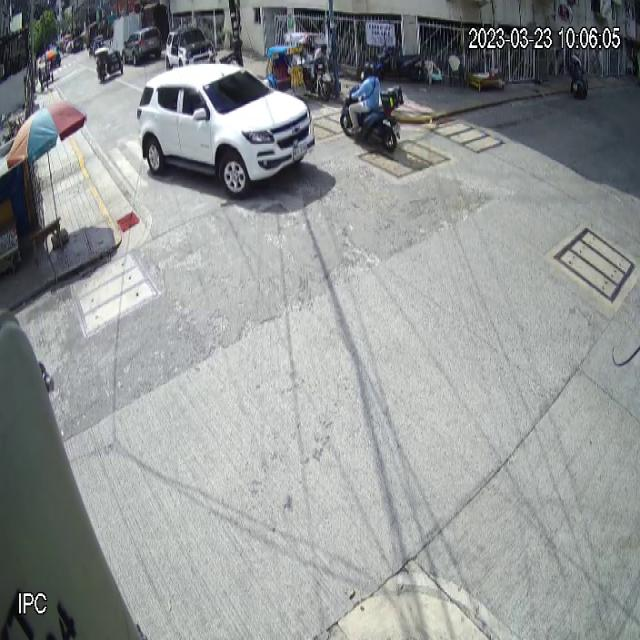Car: (135, 62, 319, 201)
Motorcycle: (339, 82, 405, 154)
Tricycle: (266, 32, 331, 103)
